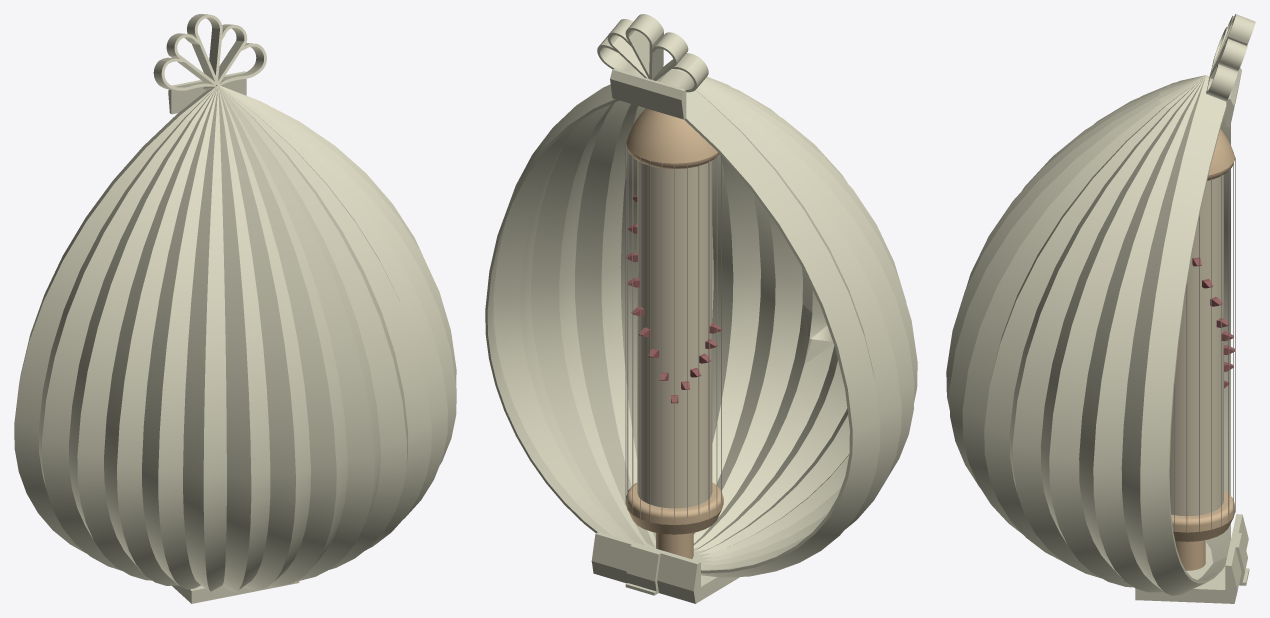
File: sasando.fbx
3 views of the same model, side by side, from view 1: azimuth 30°, elevation 25°; view 2: azimuth 150°, elevation 25°; view 3: azimuth 270°, elevation 25° (orthographic). The views are drawn at different scales.
Parts seen in each view (by area): view 1: group_5, group_8, group_7, group_6; view 2: group_5, group_1, group_6, group_2, group_8, group_3, group_7, group_6.001, group_3.002, group_28, group_27, group_34 (+3 smaller); view 3: group_5, group_1, group_6, group_8, group_3, group_2, group_3.002, group_30, group_39, group_6.001.
Part boxes in pixels (x1=…): group_5: x1=14, y1=85, x2=456, y2=591; group_8: x1=153, y1=14, x2=266, y2=90; group_7: x1=168, y1=71, x2=246, y2=114; group_6: x1=172, y1=581, x2=299, y2=603; group_5: x1=485, y1=69, x2=917, y2=577; group_1: x1=637, y1=160, x2=712, y2=508; group_6: x1=591, y1=531, x2=739, y2=603; group_2: x1=626, y1=108, x2=719, y2=169; group_8: x1=597, y1=14, x2=708, y2=92; group_3: x1=626, y1=482, x2=723, y2=534; group_7: x1=610, y1=68, x2=686, y2=119; group_6.001: x1=625, y1=545, x2=660, y2=595; group_3.002: x1=656, y1=532, x2=693, y2=559; group_28: x1=661, y1=163, x2=662, y2=524; group_27: x1=649, y1=161, x2=650, y2=522; group_34: x1=625, y1=143, x2=626, y2=504; group_5: x1=946, y1=75, x2=1230, y2=595; group_1: x1=1169, y1=174, x2=1223, y2=516; group_6: x1=1135, y1=514, x2=1248, y2=603; group_8: x1=1206, y1=14, x2=1255, y2=101; group_3: x1=1171, y1=490, x2=1234, y2=541; group_2: x1=1207, y1=129, x2=1235, y2=180; group_3.002: x1=1175, y1=540, x2=1205, y2=570; group_30: x1=1228, y1=167, x2=1229, y2=522; group_39: x1=1186, y1=283, x2=1187, y2=532; group_6.001: x1=1235, y1=533, x2=1249, y2=585.
Bounding box in the file's own units: 131 × 169 × 84.22.
